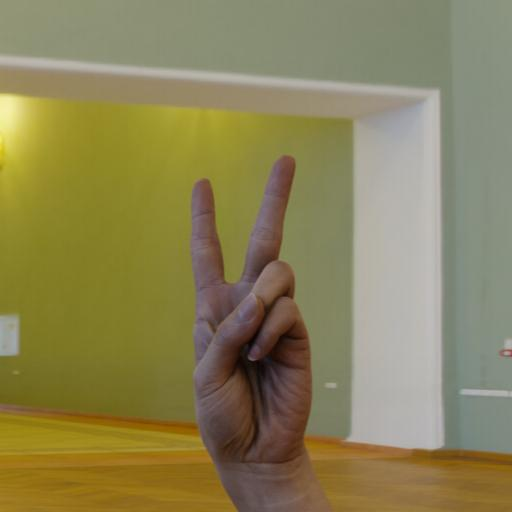V: (176, 147, 326, 479)
